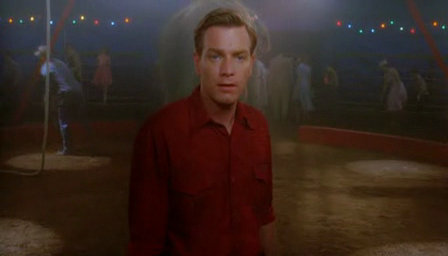face: (201, 38, 251, 104)
ms: (1, 1, 448, 256)
person: (128, 8, 278, 256)
